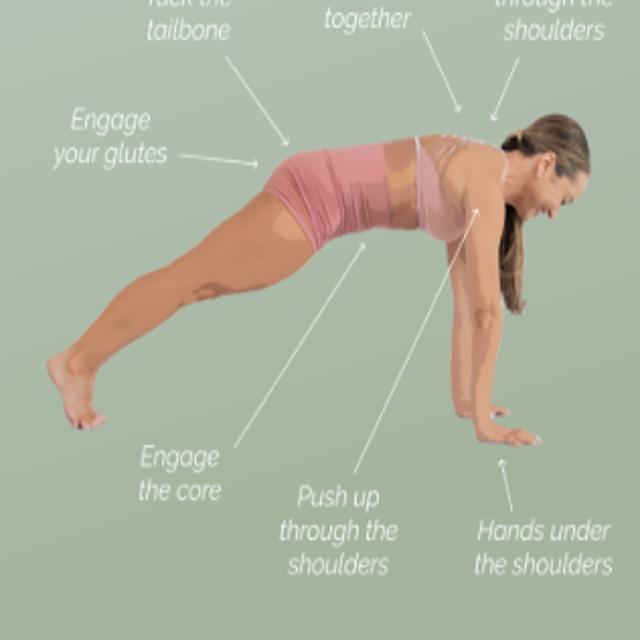Plank_Pose: (38, 110, 596, 459)
